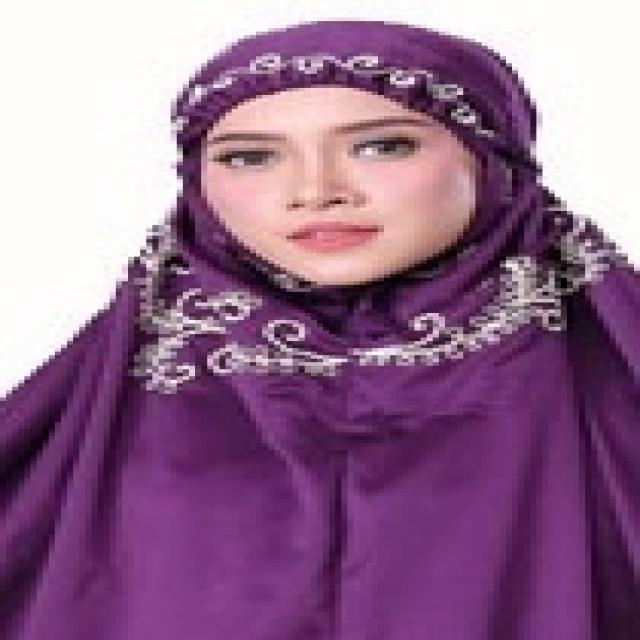head: (161, 19, 552, 292)
